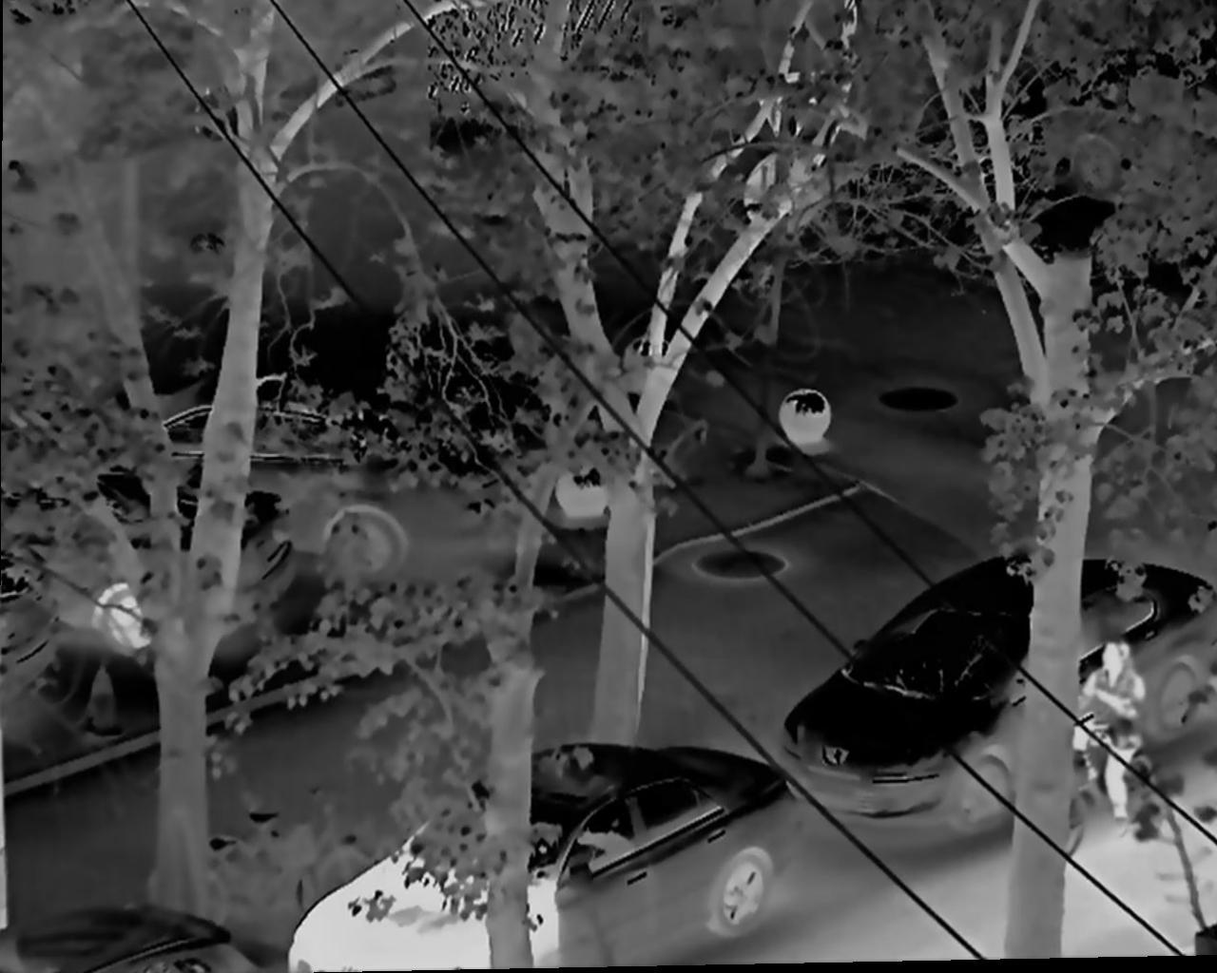person: (1072, 641, 1145, 827)
